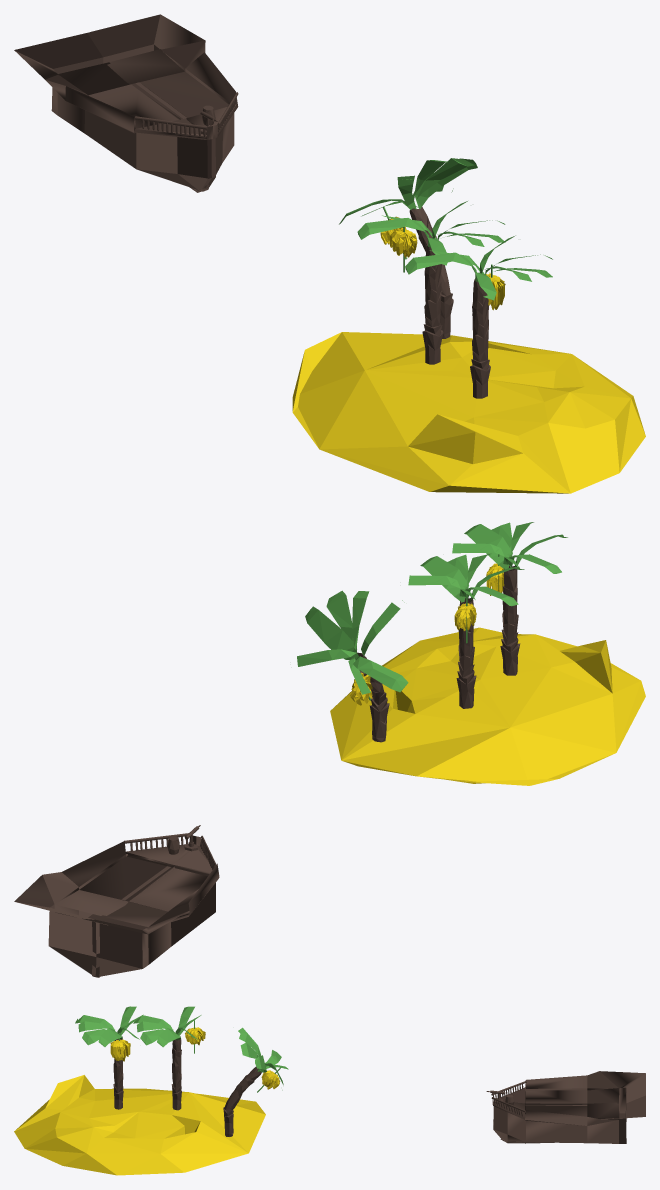
The model's file is SchiffVR.fbx.
The picture shows the model from 3 angles, top to bottom: view 1: azimuth 30°, elevation 25°; view 2: azimuth 150°, elevation 25°; view 3: azimuth 270°, elevation 25°; orthographic projection. The views are drawn at different scales.
Visible parts, largest first — view 1: Landschaft_1, Symmetrie_1, Loft_7, Zylinder_8, Zylinder_6, Loft_7_6, Loft_7_4, Zylinder, Reling; view 2: Landschaft_1, Symmetrie_1, Loft_7, Loft_7_4, Loft_7_6, Zylinder_8, Zylinder_6, Zylinder, Reling; view 3: Landschaft_1, Symmetrie_1, Loft_7_4, Loft_7_6, Loft_7, Zylinder, Zylinder_6, Zylinder_8, Reling, Banane, Banane_1, Banane_2.
Part boxes in pixels (box(x1,y1,x2,y2)): Landschaft_1: box(292, 332, 645, 493); Symmetrie_1: box(14, 14, 238, 192); Loft_7: box(339, 158, 477, 224); Zylinder_8: box(470, 278, 490, 398); Zylinder_6: box(422, 243, 443, 364); Loft_7_6: box(405, 235, 552, 300); Loft_7_4: box(357, 201, 505, 265); Zylinder: box(409, 206, 453, 338); Reling: box(135, 92, 238, 136); Landschaft_1: box(330, 627, 645, 785); Symmetrie_1: box(14, 835, 219, 977); Loft_7: box(297, 590, 408, 694); Loft_7_4: box(408, 554, 524, 606); Loft_7_6: box(452, 522, 567, 573); Zylinder_8: box(500, 565, 520, 675); Zylinder_6: box(456, 598, 476, 708); Zylinder: box(357, 652, 389, 742); Reling: box(124, 833, 216, 869); Landschaft_1: box(14, 1075, 265, 1175); Symmetrie_1: box(492, 1071, 645, 1143); Loft_7_4: box(133, 1006, 201, 1047); Loft_7_6: box(75, 1006, 143, 1046); Loft_7: box(238, 1027, 288, 1090); Zylinder: box(223, 1066, 261, 1136); Zylinder_6: box(171, 1036, 181, 1110); Zylinder_8: box(113, 1036, 123, 1109); Reling: box(491, 1080, 526, 1116); Banane: box(110, 1039, 130, 1061); Banane_1: box(185, 1027, 205, 1045); Banane_2: box(261, 1070, 280, 1089).
Size of the model in its own units: 824 by 510 by 2537.
3 materials, 3 textured.
